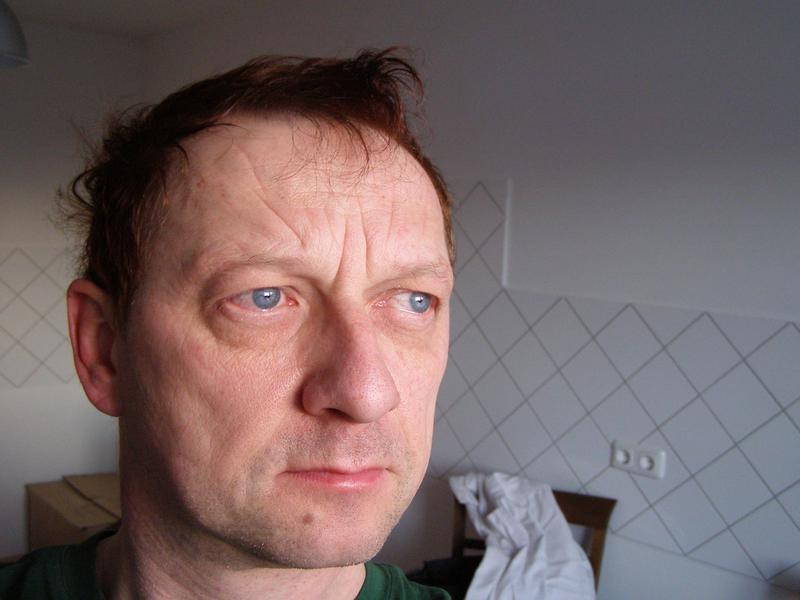person: (6, 43, 467, 600)
